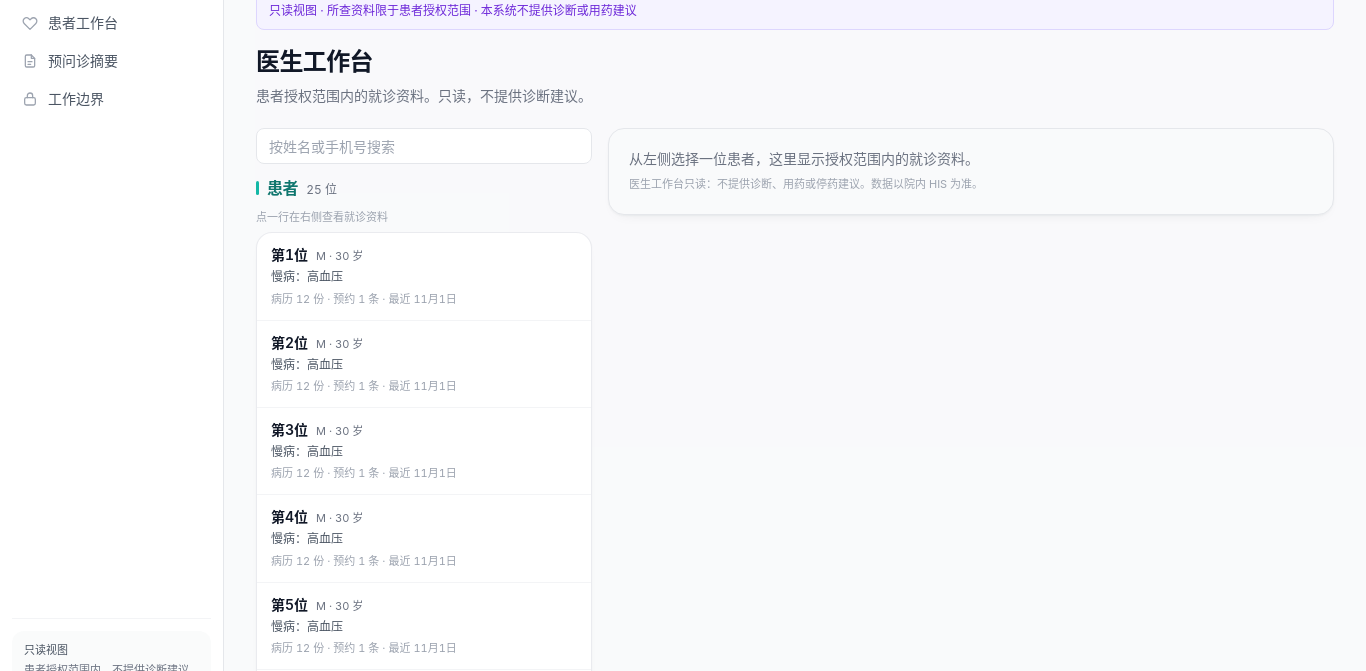
Scenario: 医生工作台：取数时序 › 超过一页才显示页码；翻页清空选中，不让右栏挂着别页患者的病历
The image size is (1366, 671).
Click the button "第1位 M · 30 岁 慢病：高血压 病历 12 份 · 预约 1 条 · 最近 11月1日" at (290, 255), box [257,233,591,320]
(page scrolled)
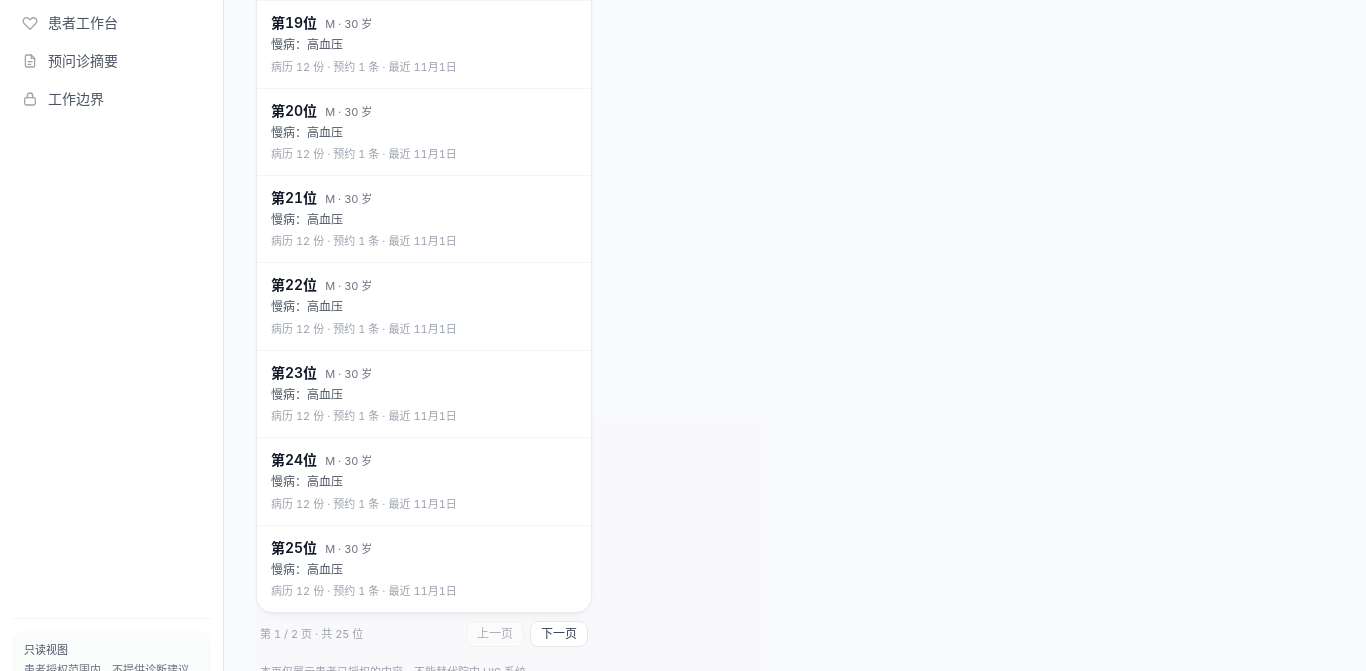
Click the button "下一页" at (559, 634), box [530,621,588,647]
(page scrolled)
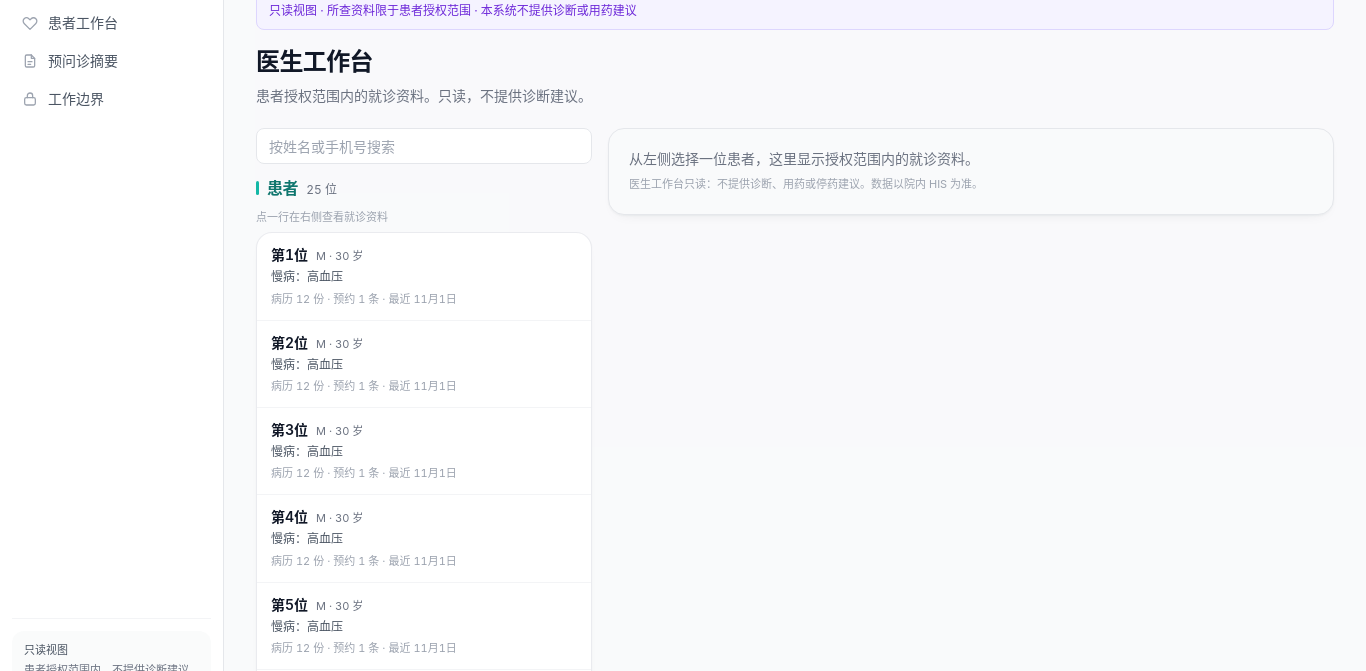
Expected: the text "从左侧选择一位患者，这里显示授权范围内的就诊资料。" is shown, [629,150,979,167]
